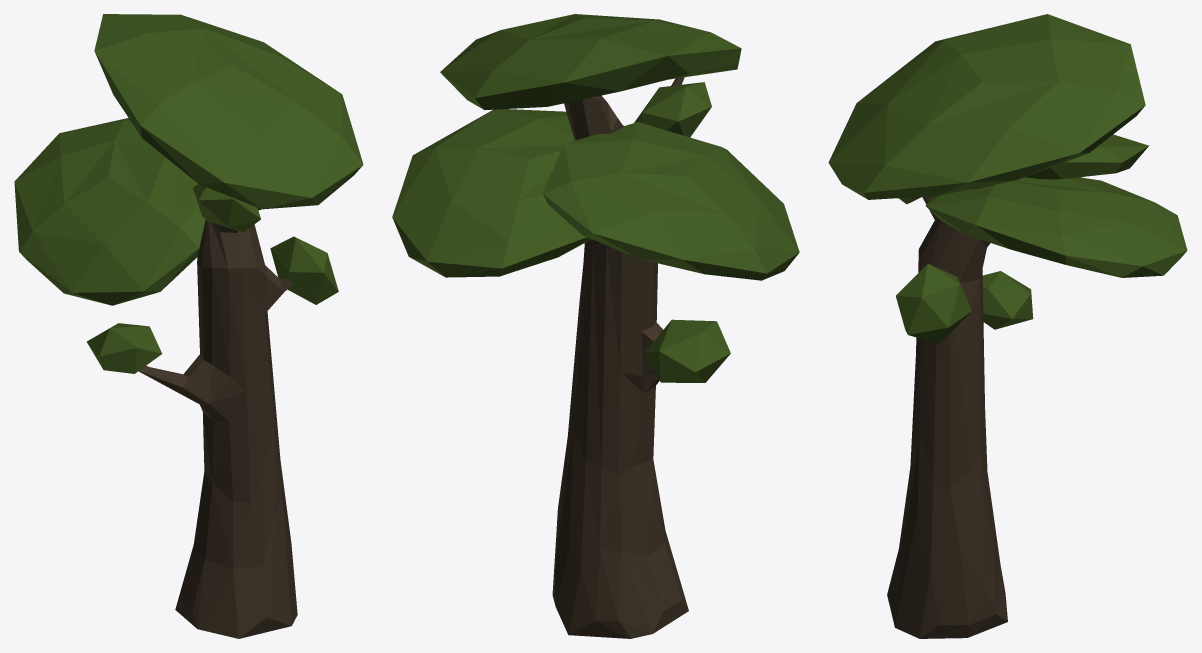
Rendered from SM_tree_b_02.fbx.
The picture shows the model from 3 angles, left to right: view 1: azimuth 30°, elevation 25°; view 2: azimuth 150°, elevation 25°; view 3: azimuth 270°, elevation 25°; orthographic projection. The views are drawn at different scales.
Visible parts, largest first — view 1: Object186; view 2: Object186; view 3: Object186.
Boxes of the visible parts, x1=… form: Object186: x1=14, y1=14, x2=363, y2=638; Object186: x1=392, y1=14, x2=799, y2=638; Object186: x1=828, y1=14, x2=1187, y2=638.
Size of the model in its own units: 180 by 187 by 321.
